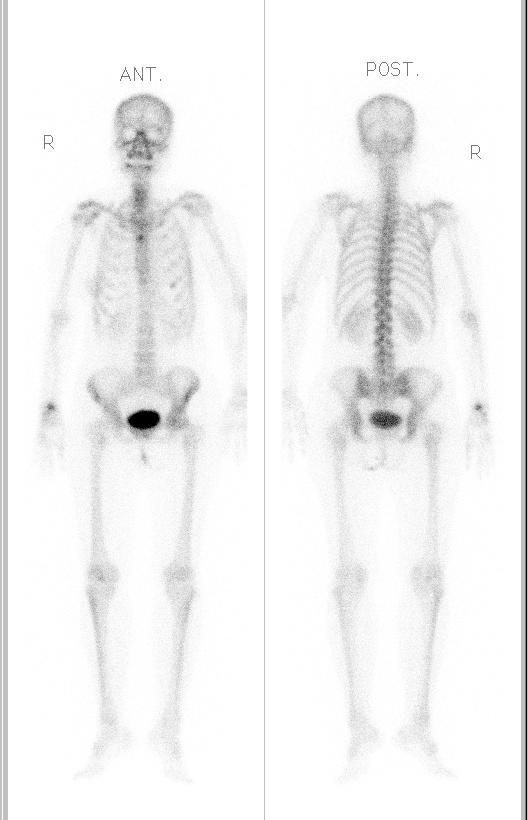person: (8, 1, 521, 820)
